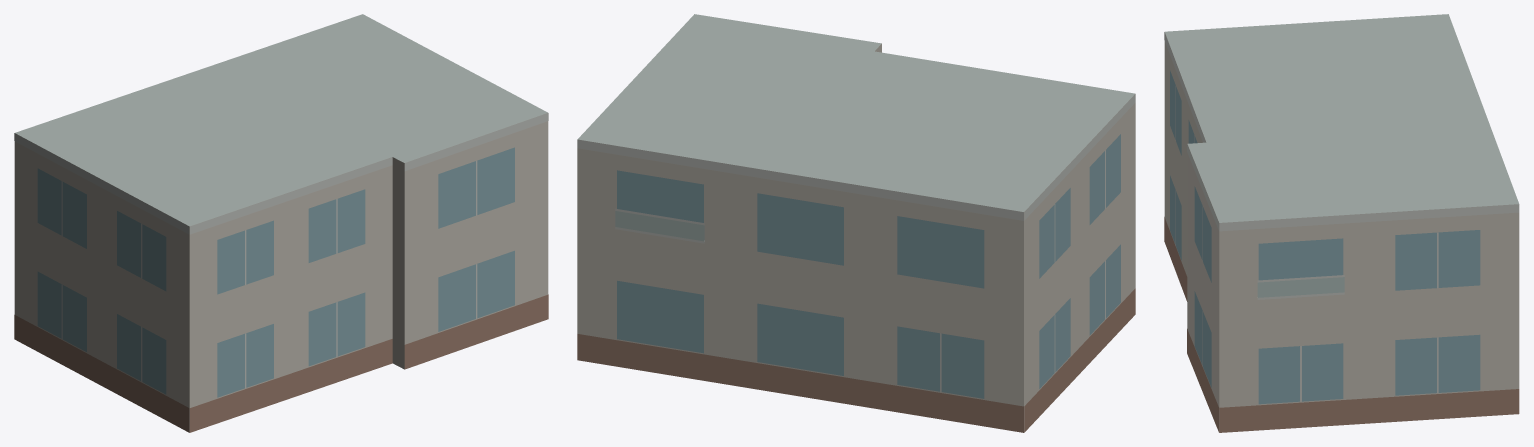
File: survey-upis-32516424.glb
3 renders of one model, left to right at view 1: azimuth 30°, elevation 25°; view 2: azimuth 150°, elevation 25°; view 3: azimuth 270°, elevation 25°, orthographic. The views are drawn at different scales.
Parts seen in each view (by area): view 1: survey-upis-32516424.tmp; view 2: survey-upis-32516424.tmp; view 3: survey-upis-32516424.tmp.
Boxes of the visible parts, box(x1,y1,x2,y2) form: survey-upis-32516424.tmp: box(14, 14, 548, 432); survey-upis-32516424.tmp: box(577, 14, 1135, 432); survey-upis-32516424.tmp: box(1164, 14, 1519, 432).
Bounding box in the file's own units: 13.03 × 6.1 × 9.36.
